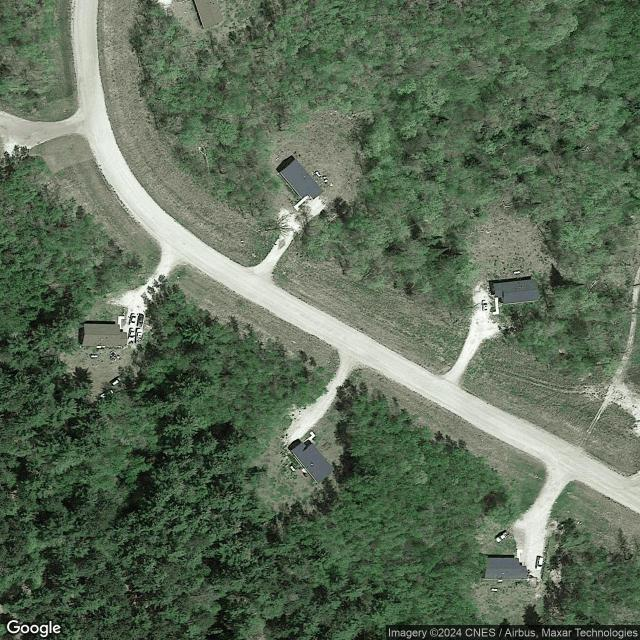Propane: (288, 464, 296, 472), (314, 170, 322, 178), (513, 269, 521, 275), (490, 587, 499, 592), (90, 354, 99, 358)
